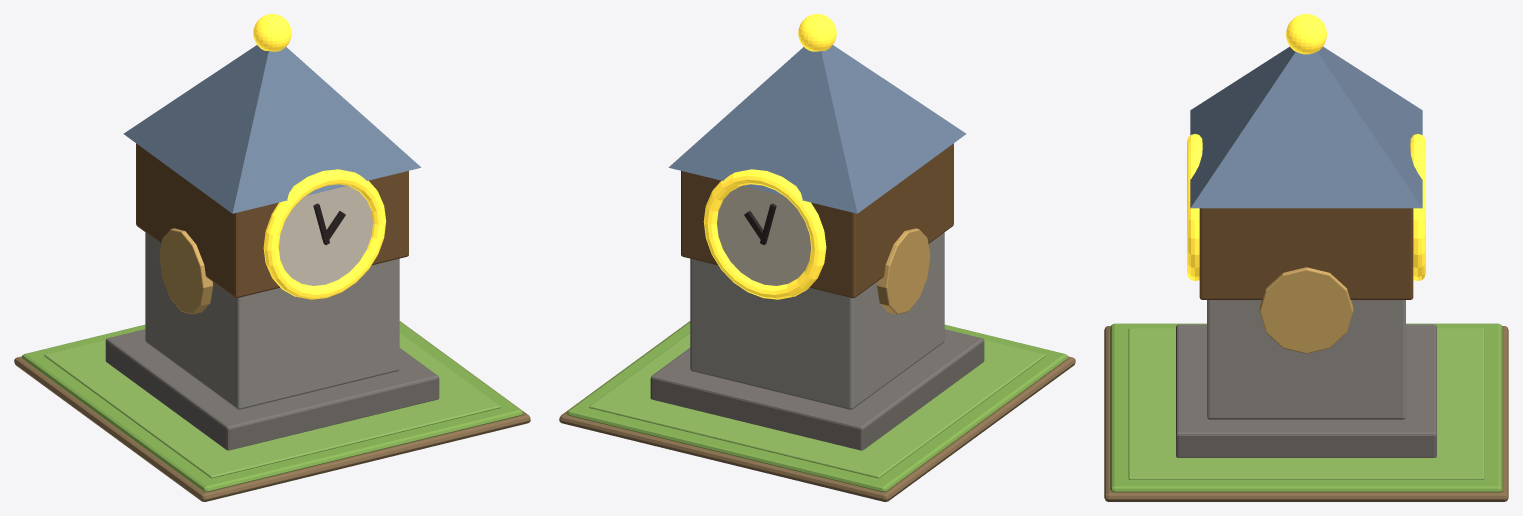
File: clock_tower_lv1.glb
The picture shows the model from 3 angles, left to right: view 1: azimuth 30°, elevation 25°; view 2: azimuth 150°, elevation 25°; view 3: azimuth 270°, elevation 25°; orthographic projection. The views are drawn at different scales.
Parts seen in each view (by area): view 1: CT_SpireRoof, CT_LowerShaft, Base_Inner, CT_Plinth, CT_UpperHousing, Base_Grass, ClockDial_-1, Base_Dirt, ClockBezel_-1, CT_SideGear_-1, CT_ApexOrb; view 2: CT_SpireRoof, CT_LowerShaft, Base_Inner, CT_Plinth, CT_UpperHousing, Base_Grass, ClockDial_1, Base_Dirt, ClockBezel_1, CT_SideGear_-1, CT_ApexOrb; view 3: CT_SpireRoof, Base_Inner, CT_LowerShaft, CT_UpperHousing, CT_Plinth, Base_Grass, Base_Dirt, CT_SideGear_1, ClockBezel_1, ClockBezel_-1, CT_ApexOrb.
Boxes of the visible parts, bbox=[...] form: CT_SpireRoof: bbox=[123, 45, 421, 213]; CT_LowerShaft: bbox=[145, 232, 399, 409]; Base_Inner: bbox=[44, 332, 500, 478]; CT_Plinth: bbox=[105, 329, 439, 450]; CT_UpperHousing: bbox=[136, 143, 408, 298]; Base_Grass: bbox=[22, 321, 522, 492]; ClockDial_-1: bbox=[278, 185, 372, 285]; Base_Dirt: bbox=[14, 321, 530, 501]; ClockBezel_-1: bbox=[263, 169, 386, 299]; CT_SideGear_-1: bbox=[159, 228, 213, 314]; CT_ApexOrb: bbox=[253, 14, 291, 51]; CT_SpireRoof: bbox=[668, 45, 966, 213]; CT_LowerShaft: bbox=[690, 232, 944, 409]; Base_Inner: bbox=[589, 332, 1045, 478]; CT_Plinth: bbox=[650, 329, 984, 450]; CT_UpperHousing: bbox=[681, 143, 953, 298]; Base_Grass: bbox=[567, 321, 1067, 492]; ClockDial_1: bbox=[717, 185, 811, 285]; Base_Dirt: bbox=[559, 321, 1075, 501]; ClockBezel_1: bbox=[703, 169, 826, 299]; CT_SideGear_-1: bbox=[876, 228, 930, 314]; CT_ApexOrb: bbox=[798, 14, 836, 51]; CT_SpireRoof: bbox=[1190, 46, 1422, 208]; Base_Inner: bbox=[1128, 328, 1484, 479]; CT_LowerShaft: bbox=[1207, 300, 1405, 419]; CT_UpperHousing: bbox=[1199, 208, 1413, 299]; CT_Plinth: bbox=[1176, 324, 1436, 457]; Base_Grass: bbox=[1110, 323, 1502, 492]; Base_Dirt: bbox=[1104, 326, 1508, 501]; CT_SideGear_1: bbox=[1259, 267, 1353, 353]; ClockBezel_1: bbox=[1410, 134, 1425, 280]; ClockBezel_-1: bbox=[1187, 134, 1202, 280]; CT_ApexOrb: bbox=[1286, 14, 1326, 54].
Bounding box in the file's own units: 2.76 × 3.03 × 2.76.
